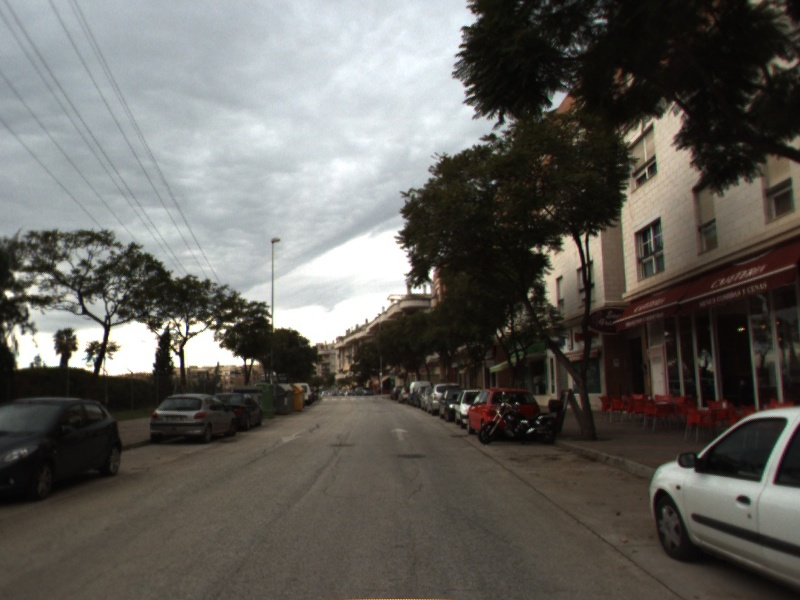STRAIGHT: (387, 425, 413, 443)
